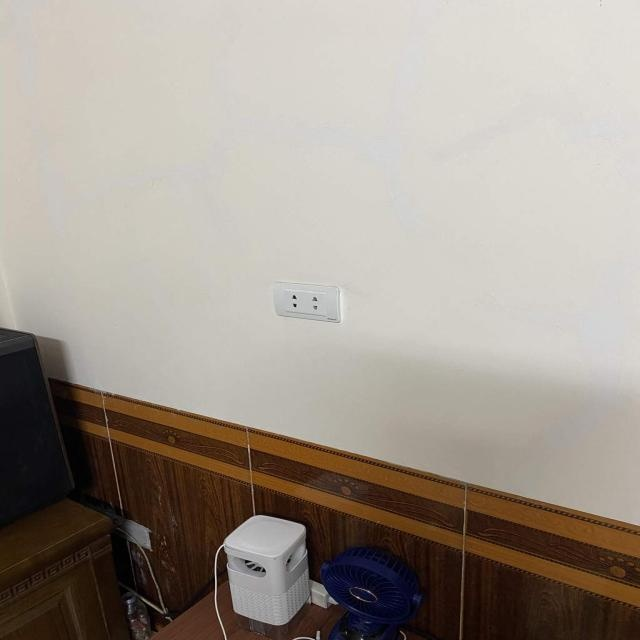outlet: (272, 281, 340, 323)
